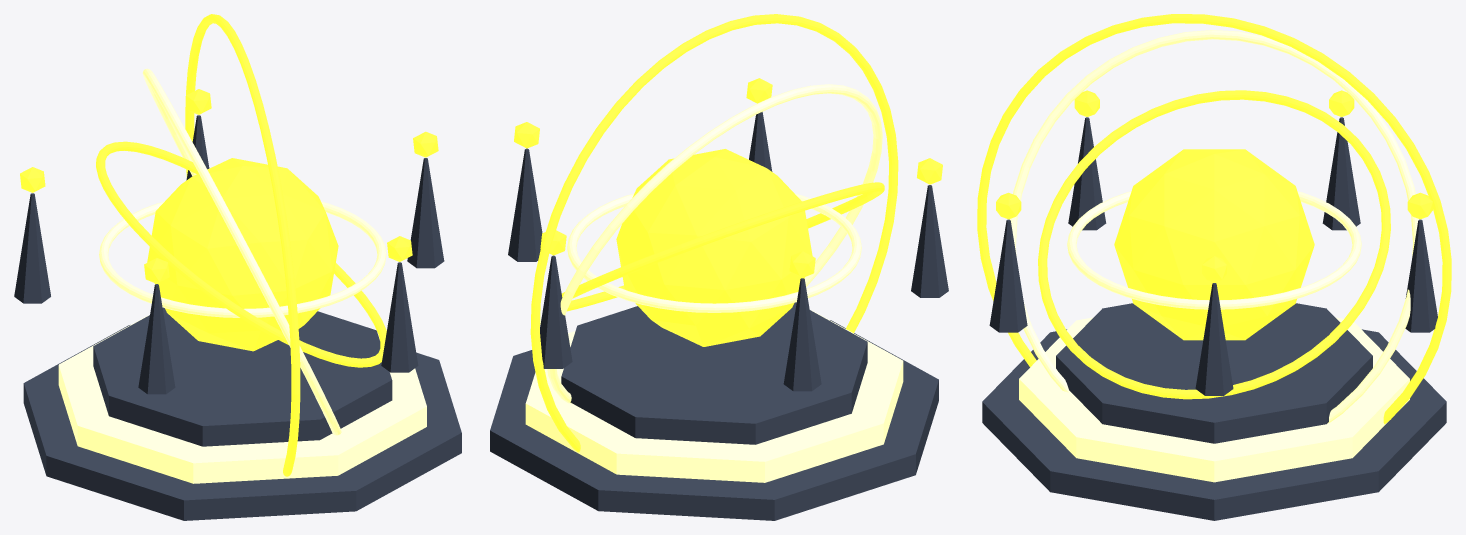
Rendered from gpu-blender-v36.glb.
3 views of the same model, side by side, from view 1: azimuth 30°, elevation 25°; view 2: azimuth 150°, elevation 25°; view 3: azimuth 270°, elevation 25° (orthographic). The views are drawn at different scales.
Parts seen in each view (by area): view 1: Cylinder.002, SovereignCore_pod-margin-sentinel, Cylinder, Cylinder.001, Torus.003, Torus.001, Torus.002, Torus, Cone.003, Cone.004, Cone.002, Cone (+5 smaller); view 2: Cylinder.002, SovereignCore_pod-margin-sentinel, Cylinder, Cylinder.001, Torus.003, Torus.002, Torus, Torus.001, Cone.002, Cone.003, Cone, Cone.001 (+4 smaller); view 3: SovereignCore_pod-margin-sentinel, Cylinder.002, Cylinder, Cylinder.001, Torus.003, Torus.001, Torus.002, Torus, Cone.004, Cone, Cone.001, Cone.002 (+2 smaller).
Part boxes in pixels (<box>): Cylinder.002: <box>93,307,392,446</box>; SovereignCore_pod-margin-sentinel: <box>147,158,338,351</box>; Cylinder: <box>23,325,461,520</box>; Cylinder.001: <box>58,315,426,483</box>; Torus.003: <box>185,14,300,476</box>; Torus.001: <box>96,141,386,367</box>; Torus.002: <box>142,68,341,435</box>; Torus: <box>99,201,386,317</box>; Cone.003: <box>138,284,175,394</box>; Cone.004: <box>381,262,418,372</box>; Cone.002: <box>14,193,50,303</box>; Cone: <box>407,158,444,268</box>; Cylinder.002: <box>561,302,867,444</box>; SovereignCore_pod-margin-sentinel: <box>616,149,812,346</box>; Cylinder: <box>490,320,938,520</box>; Cylinder.001: <box>525,310,903,482</box>; Torus.003: <box>530,14,898,452</box>; Torus.002: <box>547,84,882,403</box>; Torus: <box>567,193,861,312</box>; Torus.001: <box>561,182,884,311</box>; Cone.002: <box>783,278,821,391</box>; Cone.003: <box>911,185,948,297</box>; Cone: <box>508,148,542,261</box>; Cone.001: <box>540,255,572,368</box>; SovereignCore_pod-margin-sentinel: <box>1114,149,1314,340</box>; Cylinder.002: <box>1056,303,1372,443</box>; Cylinder: <box>982,329,1446,520</box>; Cylinder.001: <box>1019,317,1409,482</box>; Torus.003: <box>977,14,1451,424</box>; Torus.001: <box>1038,90,1390,399</box>; Torus.002: <box>1008,30,1420,422</box>; Torus: <box>1067,191,1361,309</box>; Cone.004: <box>989,219,1027,332</box>; Cone: <box>1195,283,1233,395</box>; Cone.001: <box>1405,219,1437,332</box>; Cone.002: <box>1322,117,1360,230</box>.
Bounding box in the file's own units: 4.41 × 4.7 × 4.49.
